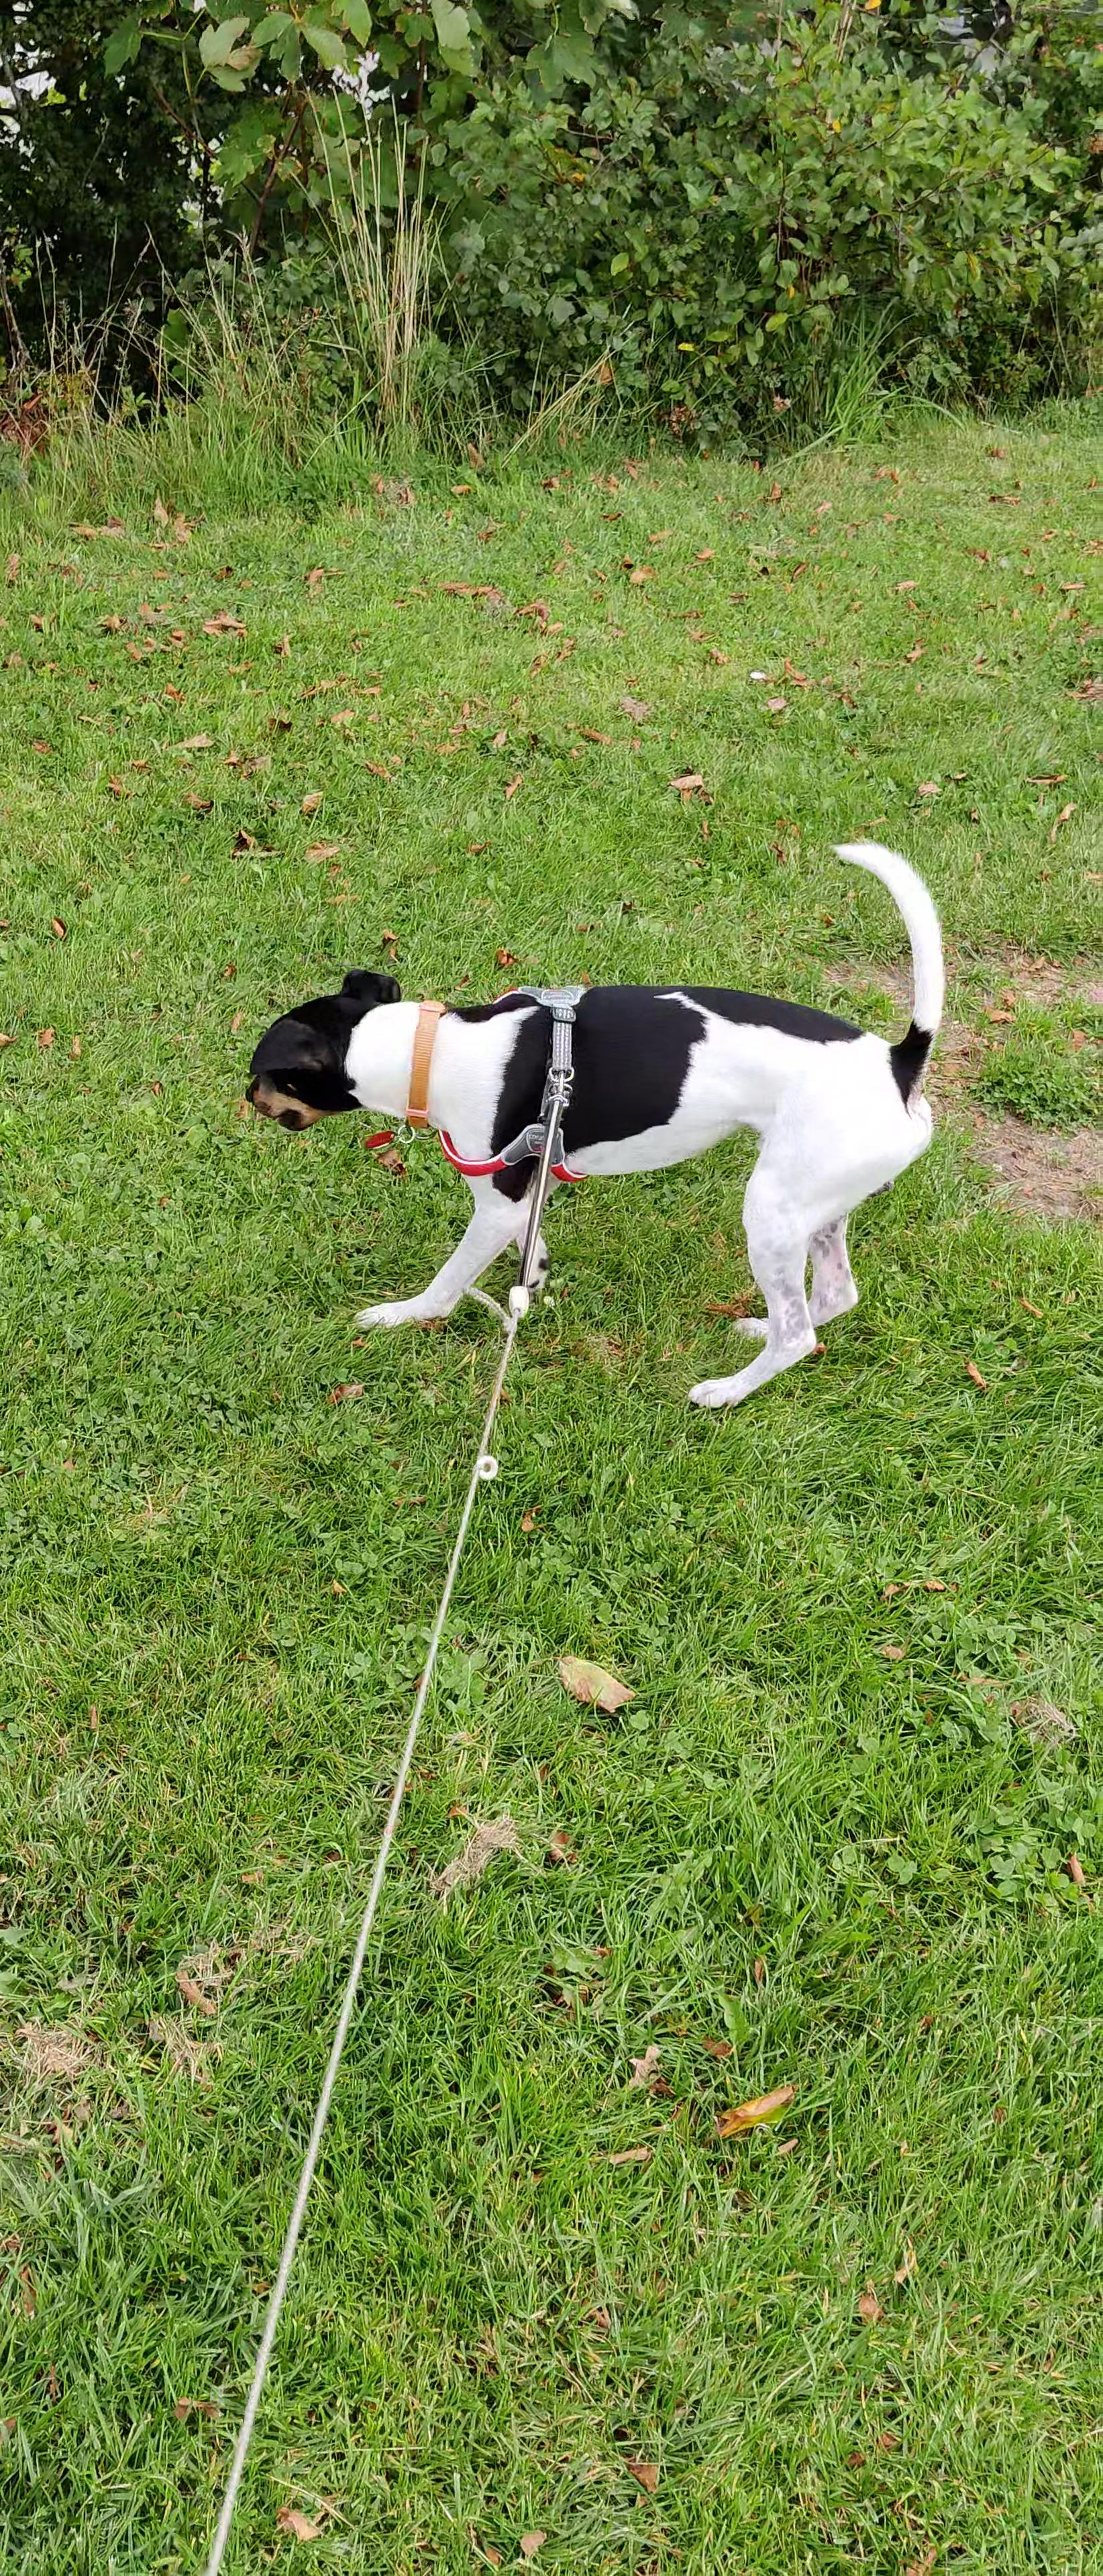Dog: (237, 838, 947, 1410)
